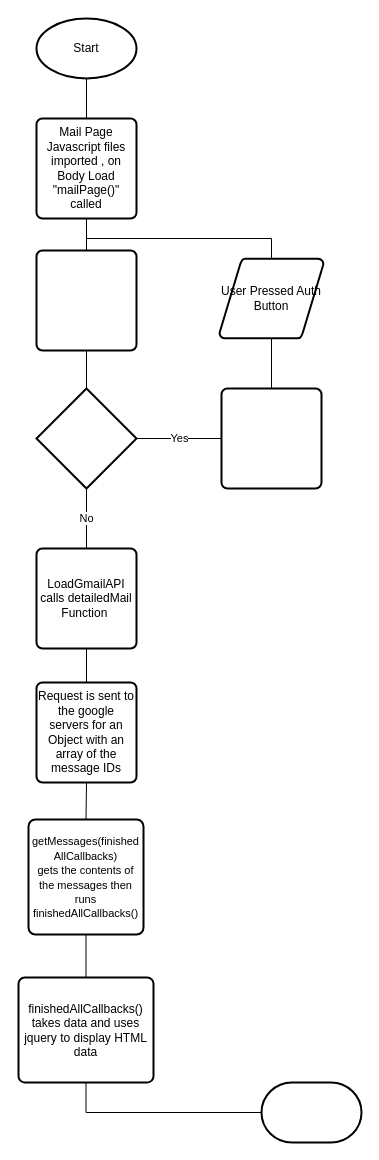
This 379x1160 diagram has some shape labels left out. Here are the shapes that lost their labels. From the top down, the box of each, then its label:
(35, 249, 137, 351): CheckCalAuth called with Parameter detailedMail
(35, 387, 137, 489): AuthResult Returns Error?
(220, 387, 322, 489): Display Gmail Authorise Button
(260, 1081, 362, 1143): End
